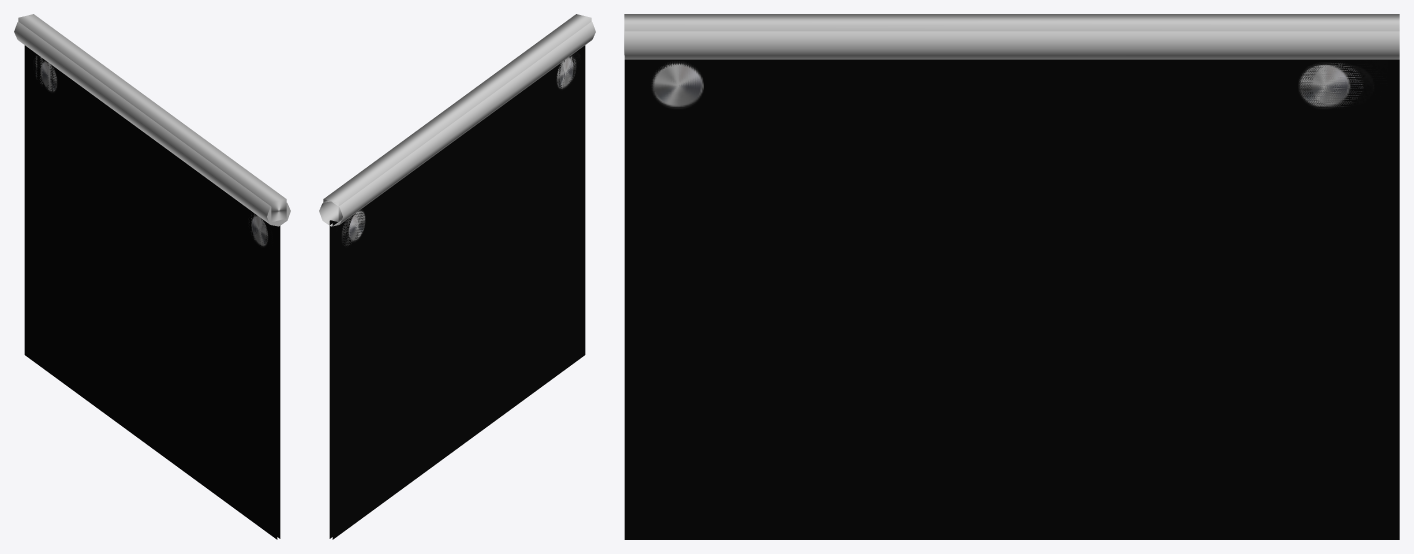
Rendered from Barricade_Bars_O.fbx.
3 renders of one model, left to right at view 1: azimuth 30°, elevation 25°; view 2: azimuth 150°, elevation 25°; view 3: azimuth 270°, elevation 25°, orthographic. The views are drawn at different scales.
Visible parts, largest first — view 1: Barricade_Bars_O, Barricade_Bars_O_L0; view 2: Barricade_Bars_O, Barricade_Bars_O_L0; view 3: Barricade_Bars_O, Barricade_Bars_O_L0.
Boxes of the visible parts, bbox=[...] form: Barricade_Bars_O: bbox=[14, 21, 290, 538]; Barricade_Bars_O_L0: bbox=[18, 14, 286, 539]; Barricade_Bars_O: bbox=[319, 21, 595, 539]; Barricade_Bars_O_L0: bbox=[323, 14, 591, 535]; Barricade_Bars_O: bbox=[624, 31, 1399, 539]; Barricade_Bars_O_L0: bbox=[624, 14, 1399, 539].
Size of the model in its own units: 0.22 by 2.96 by 4.
